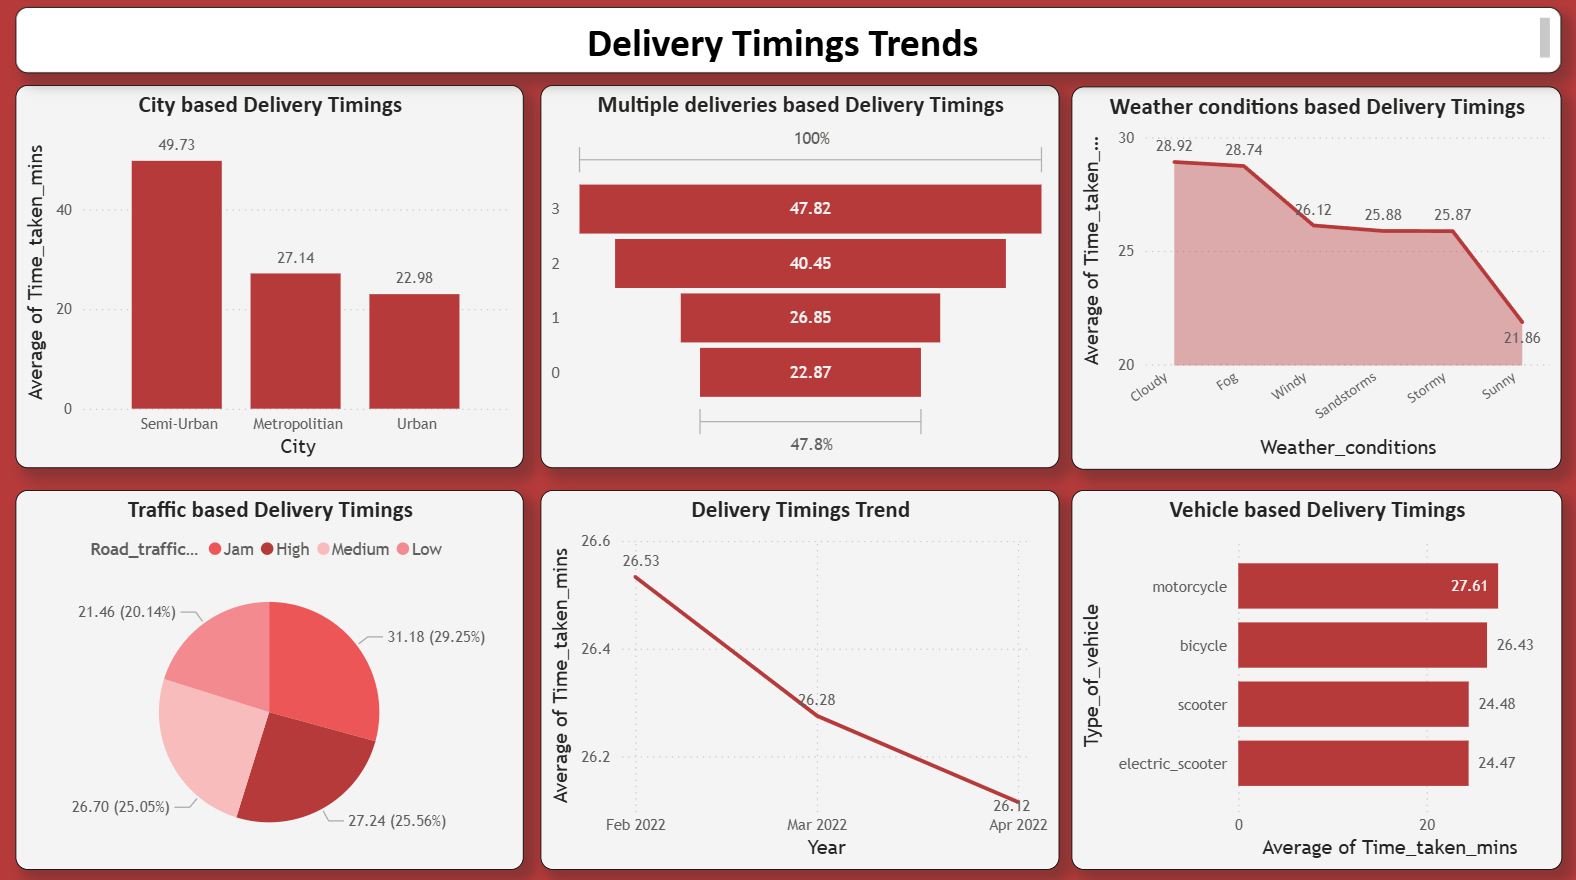

This screenshot's page, from the dashboard's own definition file:
{"tool":"powerbi","page":{"name":"Delivery timings trends","canvas":[1280,720],"ordinal":2},"visuals":[{"type":"clusteredColumnChart","title":"City based Delivery Timings","fields":{"Y":["Avg(zomato_data zomato.Time_taken_mins)"],"Category":["zomato_data zomato.City"]},"box":[18.2,72.7,409.3,308.8],"z":0},{"type":"pieChart","title":"Traffic based Delivery Timings","fields":{"Category":["zomato_data zomato.Road_traffic_density"],"Y":["Avg(zomato_data zomato.Time_taken_mins)"]},"box":[18.2,398.7,409.3,305.9],"z":1000},{"type":"funnel","title":"Multiple deliveries based Delivery Timings","fields":{"Category":["zomato_data zomato.multiple_deliveries"],"Y":["Avg(zomato_data zomato.Time_taken_mins)"]},"box":[440.4,72.7,417.9,308.8],"z":2000},{"type":"lineChart","title":"Delivery Timings Trend","fields":{"Y":["Avg(zomato_data zomato.Time_taken_mins)"],"Category":["zomato_data zomato.Order_Date.Variation.Date Hierarchy.Year","zomato_data zomato.Order_Date.Variation.Date Hierarchy.Month"]},"box":[440.4,398.7,417.9,305.9],"z":3000},{"type":"areaChart","title":"Weather conditions based Delivery Timings","fields":{"Category":["zomato_data zomato.Weather_conditions"],"Y":["Avg(zomato_data zomato.Time_taken_mins)"]},"box":[868.8,73.2,394.9,308.8],"z":4000},{"type":"clusteredBarChart","title":"Vehicle based Delivery Timings","fields":{"Y":["Avg(zomato_data zomato.Time_taken_mins)"],"Category":["zomato_data zomato.Type_of_vehicle"]},"box":[868.8,398.2,395,306],"z":5000},{"type":"textbox","box":[18.7,10.1,1245.1,53.1],"z":6000}]}

Visuals, with their boxes in screenshot pixels (x1, y1, x2, y2), scaled from the page's 1280x720 canvas onto the 1576x880 screenshot:
"City based Delivery Timings" clusteredColumnChart: l=22, t=89, r=526, b=466
"Traffic based Delivery Timings" pieChart: l=22, t=487, r=526, b=861
"Multiple deliveries based Delivery Timings" funnel: l=542, t=89, r=1057, b=466
"Delivery Timings Trend" lineChart: l=542, t=487, r=1057, b=861
"Weather conditions based Delivery Timings" areaChart: l=1070, t=89, r=1556, b=467
"Vehicle based Delivery Timings" clusteredBarChart: l=1070, t=487, r=1556, b=861
textbox: l=23, t=12, r=1556, b=77
